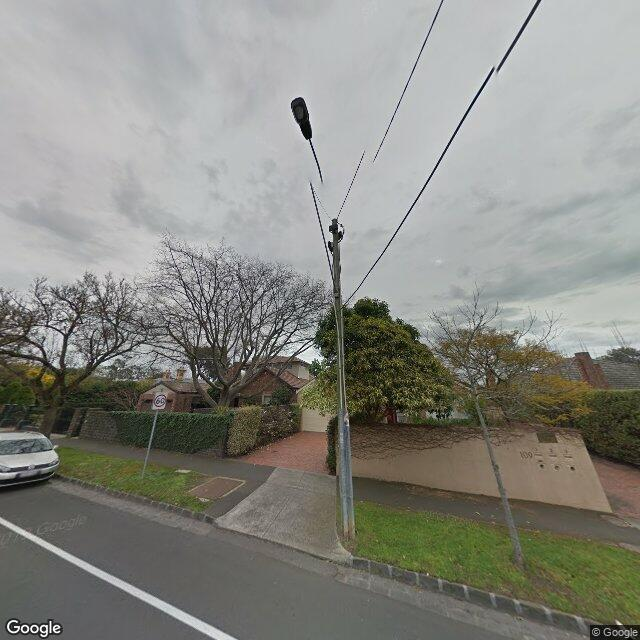streetlight: (291, 97, 339, 298)
timber-pole: (332, 219, 356, 540)
